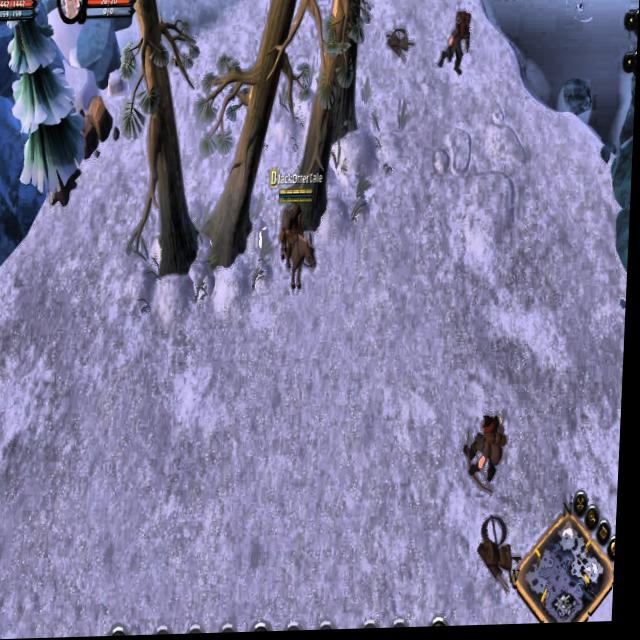limestone: (75, 93, 115, 170)
